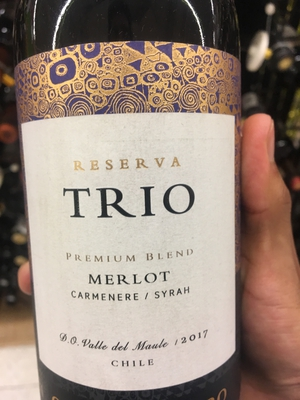trio merlot: (9, 31, 245, 400)
